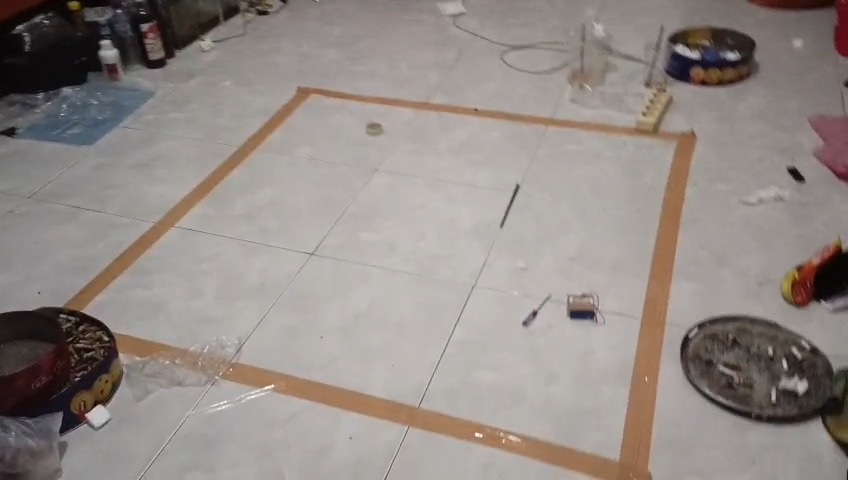floor marking: (65, 87, 696, 479), (116, 334, 187, 355)
